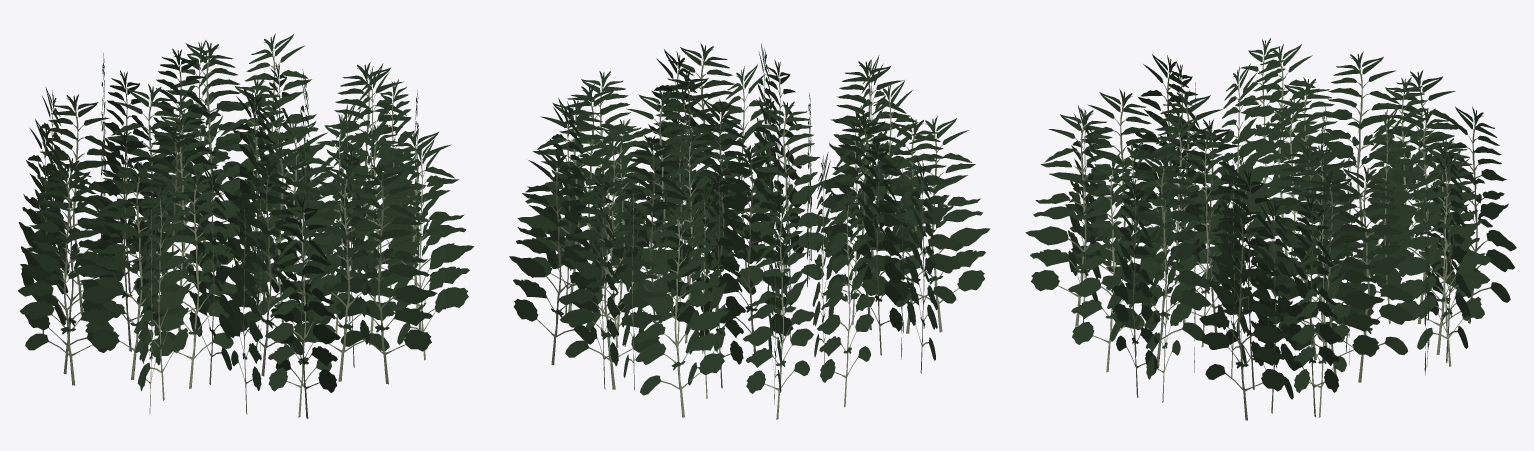
The model's file is space_nettle.fbx.
3 renders of one model, left to right at view 1: azimuth 30°, elevation 25°; view 2: azimuth 150°, elevation 25°; view 3: azimuth 270°, elevation 25°, orthographic.
Visible parts, largest first — view 1: Cube_6; view 2: Cube_6; view 3: Cube_6.
Part boxes in pixels (bbox=[...]): Cube_6: bbox=[18, 33, 473, 418]; Cube_6: bbox=[509, 43, 990, 419]; Cube_6: bbox=[1025, 38, 1516, 420].
Bounding box in the file's own units: 121 × 64.46 × 129.
Materials: 1 (1 with a texture image).
